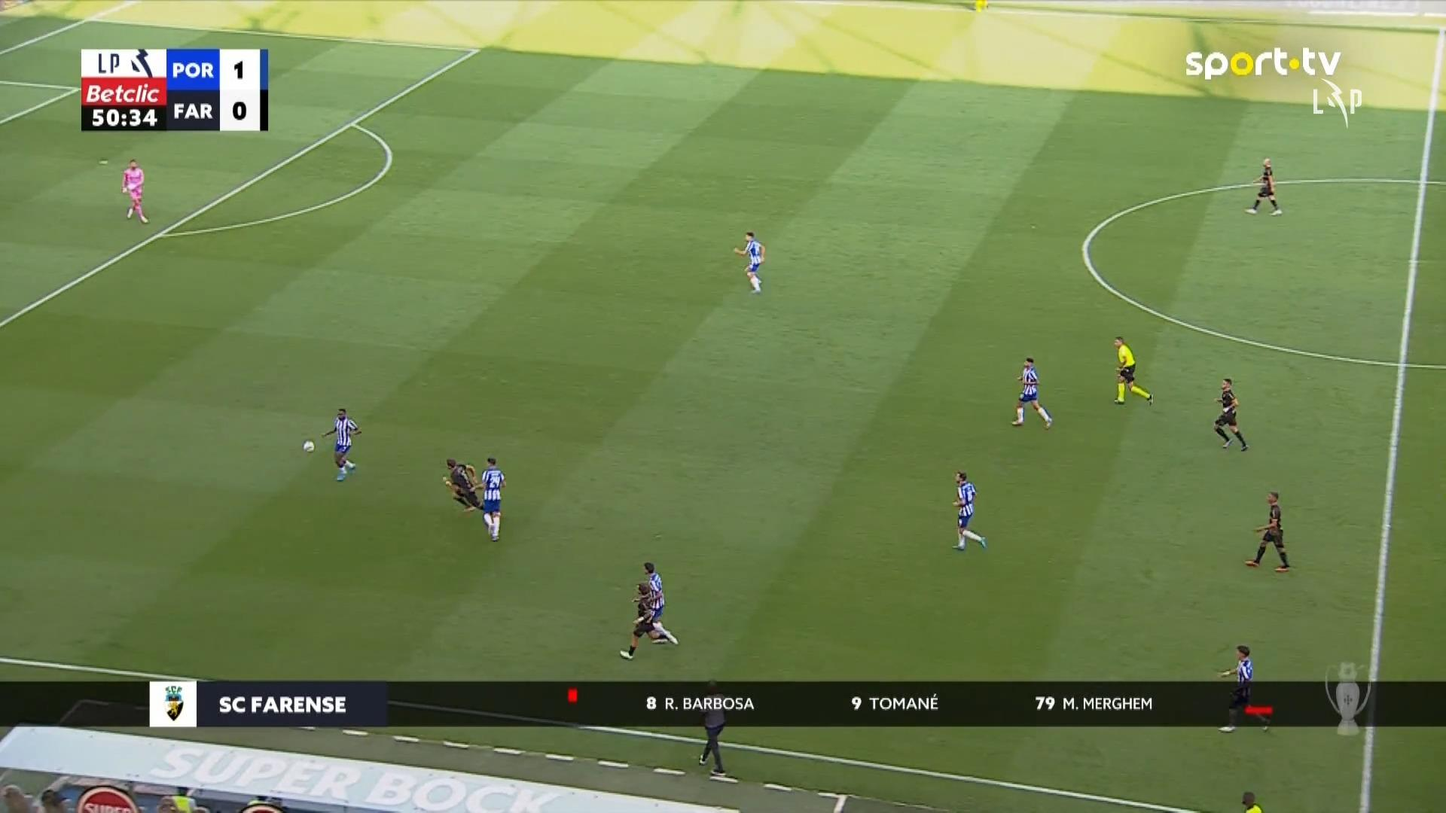ball: (303, 440, 314, 452)
goalkeeper: (121, 158, 148, 224)
player: (1216, 644, 1273, 732), (618, 581, 678, 659), (1244, 490, 1291, 571), (1010, 356, 1053, 428), (642, 561, 678, 645), (950, 470, 987, 550), (322, 407, 362, 481), (1213, 376, 1248, 451), (479, 456, 506, 540), (1244, 157, 1283, 215), (442, 457, 482, 511), (732, 230, 765, 294)
referee: (1112, 335, 1153, 406)
